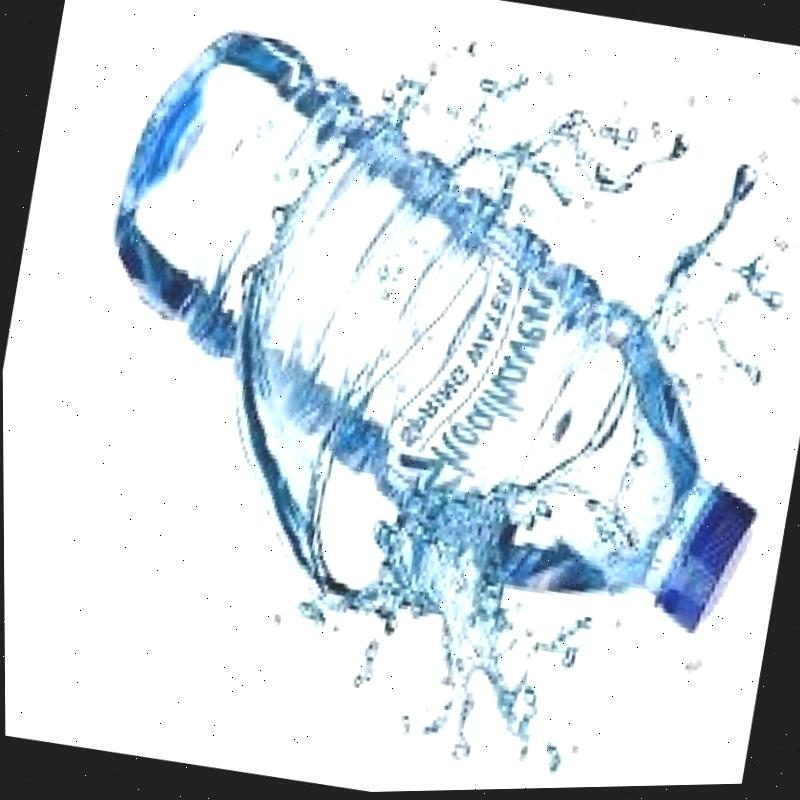botella: (54, 2, 800, 666)
